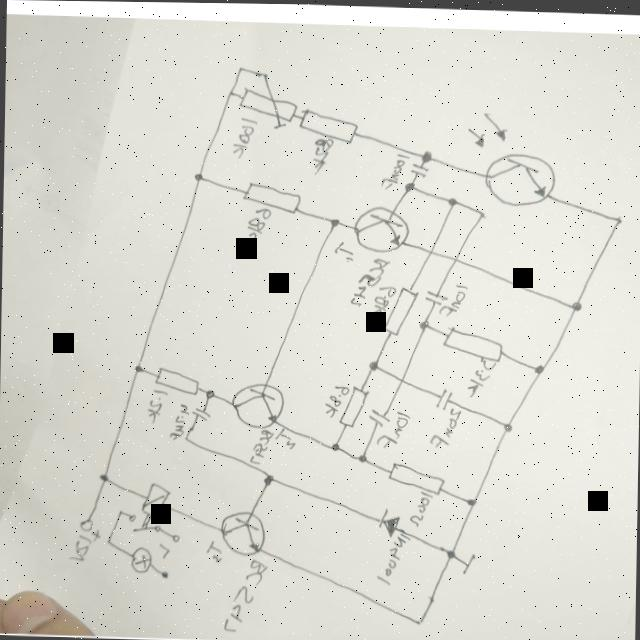capacitor: (366, 407, 391, 426), (433, 386, 452, 408), (422, 289, 446, 304), (408, 161, 428, 176), (190, 406, 210, 420)
crossover: (421, 244, 437, 259), (393, 371, 409, 385), (447, 251, 462, 265)
diode: (374, 506, 400, 536)
ground: (460, 550, 478, 576)
junction: (203, 387, 216, 399), (464, 494, 476, 505), (366, 359, 378, 370), (416, 318, 428, 329), (328, 440, 340, 451), (444, 547, 456, 558), (412, 615, 424, 626), (261, 473, 273, 484), (178, 432, 190, 443), (96, 470, 108, 481), (131, 363, 143, 374), (114, 507, 126, 518), (102, 535, 114, 546), (419, 150, 432, 160), (191, 171, 203, 181), (328, 216, 340, 226), (402, 180, 414, 190), (444, 195, 456, 205), (474, 209, 486, 219), (612, 213, 624, 223), (568, 299, 580, 309), (531, 363, 543, 373), (500, 421, 512, 431), (354, 452, 366, 462), (259, 70, 268, 79), (224, 87, 233, 96), (236, 64, 244, 73)
resistor: (234, 87, 298, 129), (295, 107, 358, 144), (440, 324, 502, 360), (239, 180, 300, 215), (384, 460, 446, 494), (380, 284, 420, 335), (336, 383, 368, 428), (152, 365, 198, 396)
terminal: (77, 518, 93, 531), (167, 531, 179, 543), (156, 569, 168, 580)
text: (222, 556, 268, 632), (346, 255, 389, 307), (374, 529, 409, 585), (426, 404, 462, 447), (372, 408, 410, 448), (463, 354, 496, 398), (377, 150, 409, 190), (230, 115, 256, 157), (436, 281, 466, 317), (406, 489, 433, 528), (244, 206, 271, 244), (308, 136, 334, 174), (321, 384, 348, 417), (370, 283, 396, 317), (248, 428, 272, 464), (167, 402, 189, 439), (146, 388, 166, 423), (67, 534, 91, 561), (272, 427, 296, 449), (332, 241, 353, 261), (204, 538, 222, 561), (155, 542, 169, 558)
transistor: (464, 109, 556, 206), (350, 204, 409, 253), (228, 380, 285, 429), (218, 508, 266, 556)
